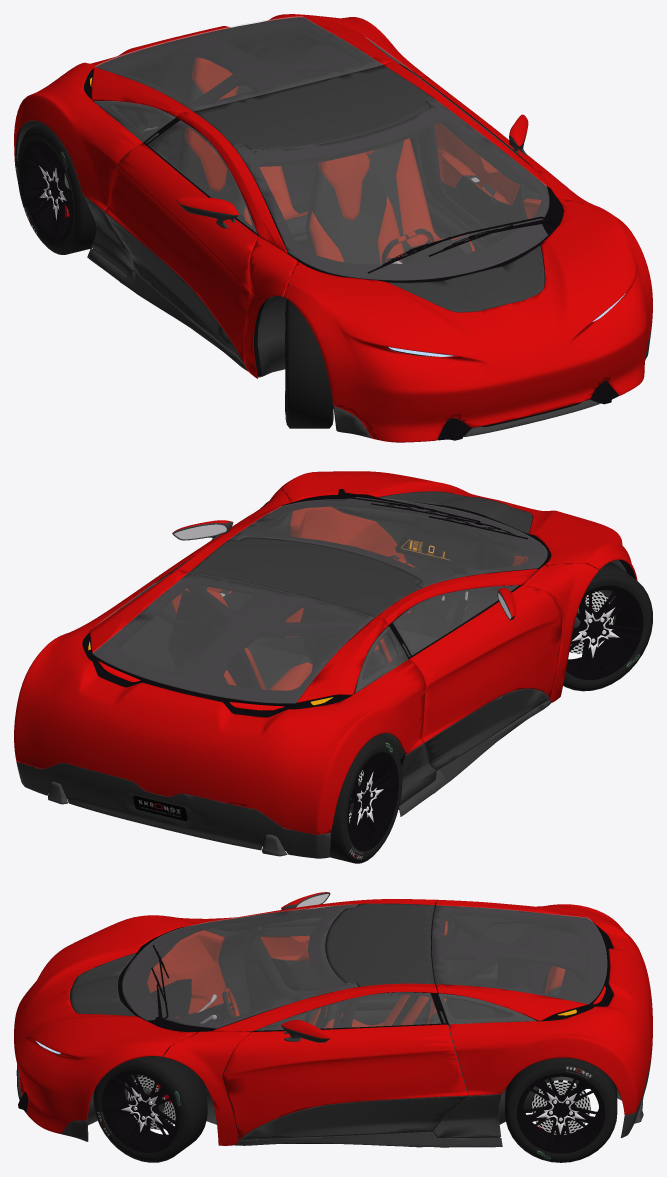
Rendered from car.glb.
3 views of the same model, one above another, from view 1: azimuth 30°, elevation 25°; view 2: azimuth 150°, elevation 25°; view 3: azimuth 270°, elevation 25° (orthographic). The views are drawn at different scales.
Visible parts, largest first — view 1: BodyHood, BodyWindshield, BodyRearwindow, BodyDoorRColor1, BodyRearPanelsColor1, BodyRoofPanel, BodyWindshieldGasket, InteriorSeatsColor1, InteriorSeatsColor2, BodyPillars, InteriorPillar, InteriorRearHatch (+21 smaller); view 2: BodyRearPanelsColor1, BodyRearwindow, BodyWindshield, BodyDoorRColor1, BodyPanelsColor2, BodyRoofPanel, BodyHood, InteriorRearHatch, BodyPillars, InteriorPillar, BodyWindshieldGasket, InteriorDashMid (+22 smaller); view 3: BodyRearPanelsColor1, BodyWindshield, BodyDoorLColor1, BodyHood, BodyRearwindow, BodyRoofPanel, BodyPillars, BodyWindshieldGasket, BodyDoorLColor2, BodyPanelsColor2, object 84, InteriorRearHatch (+25 smaller).
Boxes of the visible parts, x1,y1,x2,y2 form: BodyHood: (283,198,652,442); BodyWindshield: (234,98,549,280); BodyRearwindow: (95,16,382,110); BodyDoorRColor1: (104,143,257,363); BodyRearPanelsColor1: (14,14,428,210); BodyRoofPanel: (193,65,432,150); BodyWindshieldGasket: (234,99,563,282); InteriorSeatsColor1: (185,57,475,264); InteriorSeatsColor2: (180,78,472,264); BodyPillars: (176,61,598,378); InteriorPillar: (158,37,434,168); InteriorRearHatch: (93,17,383,117); BodyRearPanelsColor1: (14,569,425,834); BodyRearwindow: (92,573,373,703); BodyWindshield: (229,497,547,587); BodyDoorRColor1: (409,585,562,742); BodyPanelsColor2: (16,700,550,858); BodyRoofPanel: (189,537,422,617); BodyHood: (279,471,637,580); InteriorRearHatch: (93,573,386,707); BodyPillars: (175,489,599,702); InteriorPillar: (174,574,417,682); BodyWindshieldGasket: (230,497,550,587); InteriorDashMid: (331,503,528,622); BodyRearPanelsColor1: (436,899,652,1115); BodyWindshield: (122,904,357,1028); BodyDoorLColor1: (222,1024,467,1139); BodyHood: (14,915,196,1133); BodyRearwindow: (432,905,606,1003); BodyRoofPanel: (326,903,434,986); BodyPillars: (163,899,437,1145); BodyWindshieldGasket: (118,905,357,1032); BodyDoorLColor2: (240,1096,467,1140); BodyPanelsColor2: (16,1050,652,1147); object 84: (93,1054,207,1162); InteriorRearHatch: (431,905,606,1020).
Bounding box in the file's own units: 2.54 × 1.15 × 4.36.
Materials: 23 (6 with a texture image).
